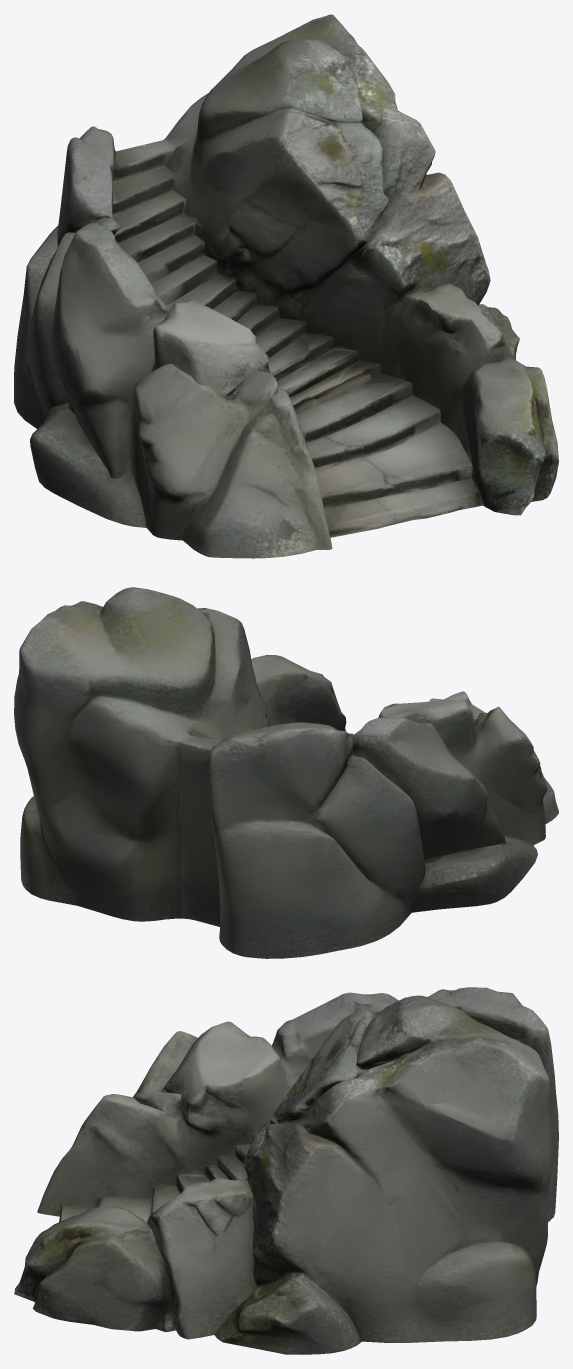
File: escada-pedra.glb
3 renders of one model, top to bottom at view 1: azimuth 30°, elevation 25°; view 2: azimuth 150°, elevation 25°; view 3: azimuth 270°, elevation 25°, orthographic. The views are drawn at different scales.
Visible parts, largest first — view 1: material; view 2: material; view 3: material.
Boxes of the visible parts, bbox=[...] form: material: bbox=[14, 14, 558, 558]; material: bbox=[14, 587, 558, 958]; material: bbox=[14, 987, 558, 1354].
Bounding box in the file's own units: 9.56 × 6 × 10.09.
Materials: 1 (1 with a texture image).
